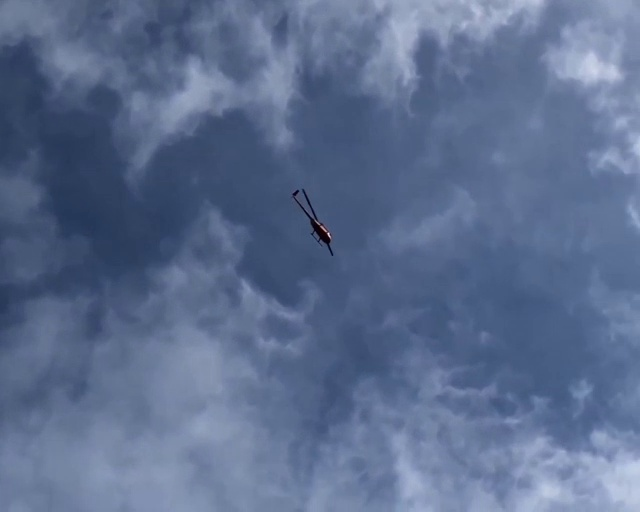HELICOPTER: (292, 187, 336, 257)
